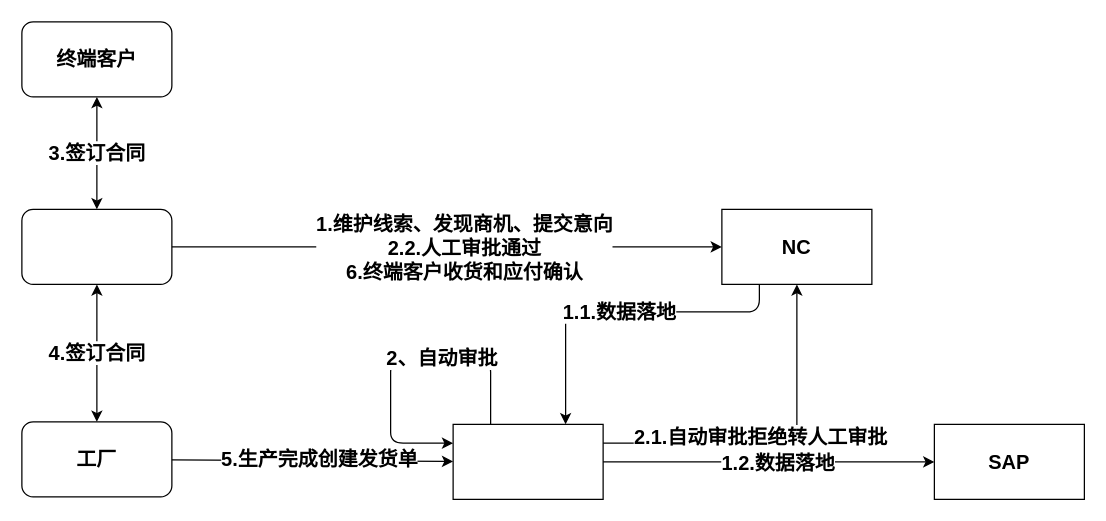
Some shapes in this 1106 by 521 pixel diagram are drawn without their labels. The box of each missing label's shape, as (x1, y1, x2, y2) in pixels:
CRM: (452, 423, 603, 499)
代理商: (21, 208, 172, 284)
